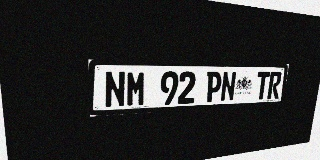2: (178, 71, 196, 104)
9: (160, 71, 179, 105)
M: (126, 71, 146, 107)
N: (104, 71, 126, 108), (220, 71, 237, 102)
P: (205, 71, 222, 103)
R: (267, 72, 282, 99)
T: (255, 72, 270, 100)
